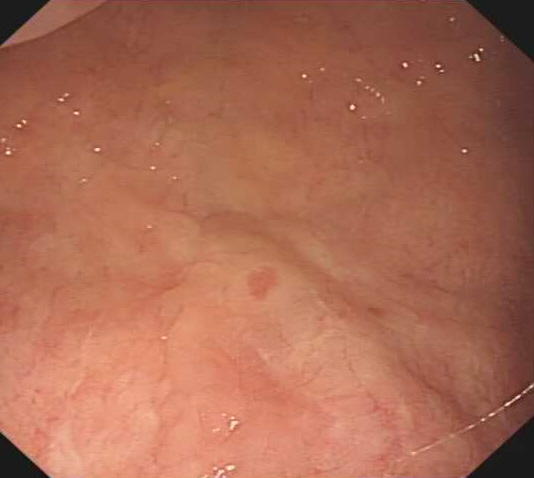adenoma: (205, 239, 320, 331)
